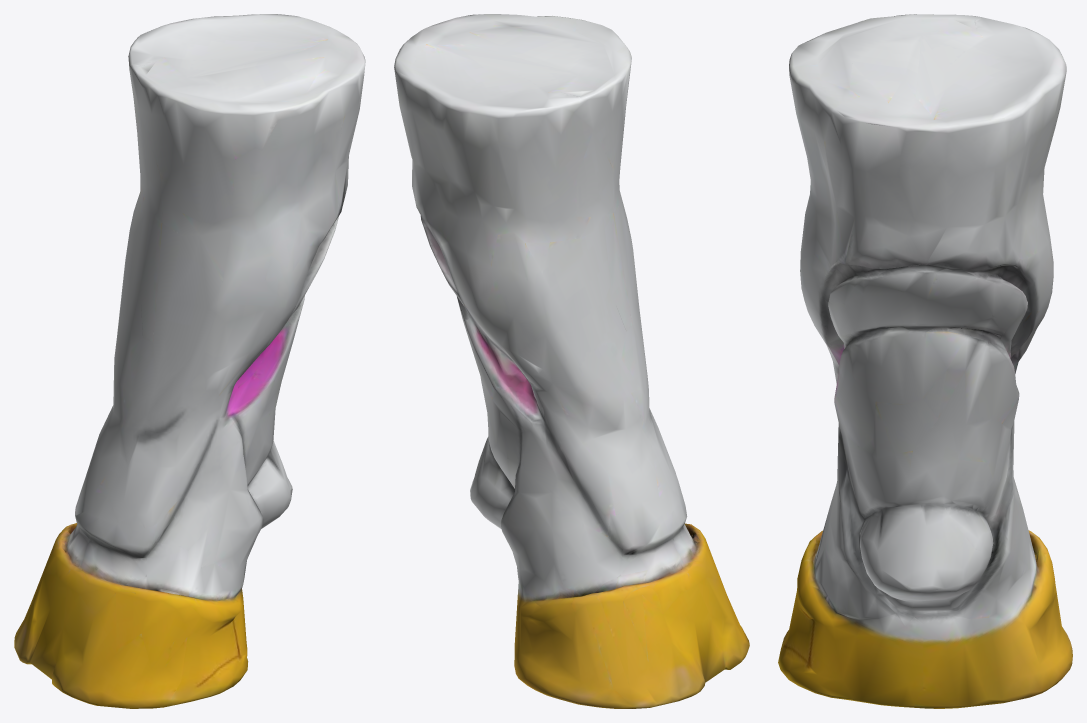
The model's file is leg_fr_lo.glb.
3 views of the same model, side by side, from view 1: azimuth 30°, elevation 25°; view 2: azimuth 150°, elevation 25°; view 3: azimuth 270°, elevation 25° (orthographic). The views are drawn at different scales.
Size of the model in its own units: 1.14 by 2 by 0.8135.
1 material, 1 textured.
